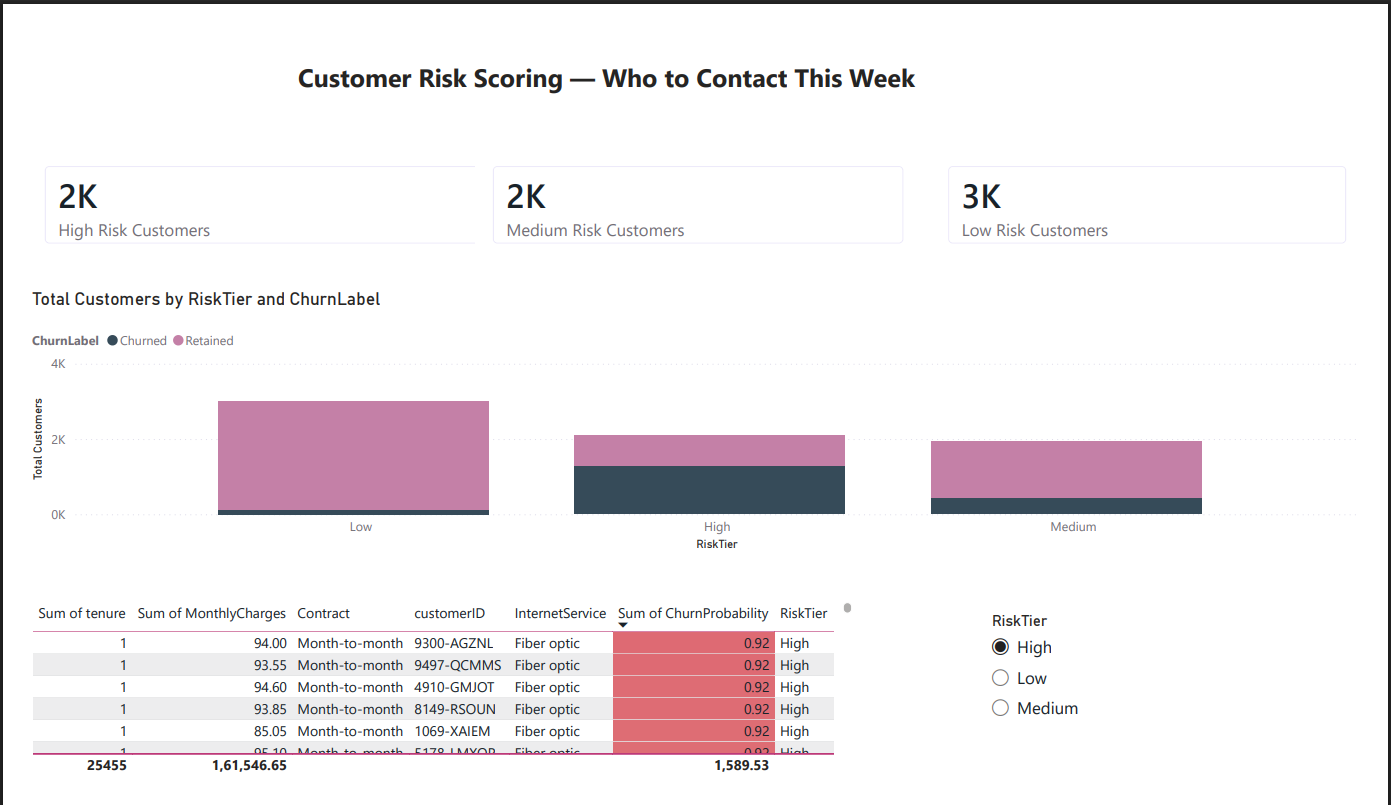

The dashboard page shown, as its layout file describes it:
{"tool":"powerbi","page":{"name":"Customer Risk Scoring — Who to Contact This Week","canvas":[1280,720],"ordinal":3},"visuals":[{"type":"cardVisual","fields":{"Data":["Customers.Low Risk Customers"]},"box":[865,115,415,107.5],"z":0},{"type":"cardVisual","fields":{"Data":["Customers.High Risk Customers"]},"box":[0,115,452.5,107.5],"z":1000},{"type":"cardVisual","fields":{"Data":["Customers.Medium Risk Customers"]},"box":[428.8,115,427.5,107.5],"z":2000},{"type":"columnChart","fields":{"Category":["Customers.RiskTier"],"Series":["Customers.ChurnLabel"],"Y":["Customers.Total Customers"]},"box":[0,248.8,1280,256.2],"z":3000},{"type":"tableEx","fields":{"Values":["Sum(Customers.tenure)","Sum(Customers.MonthlyCharges)","Customers.Contract","Customers.customerID","Customers.InternetService","Sum(Customers.ChurnProbability)","Customers.RiskTier"]},"box":[0,543.8,795,176.2],"z":4000},{"type":"slicer","fields":{"Values":["Customers.RiskTier"]},"box":[911.2,553.8,368.8,166.2],"z":5000},{"type":"textbox","box":[198.8,25,712.5,55],"z":7000}]}

Visuals, with their boxes in screenshot pixels (x1, y1, x2, y2), scaled from the page's 1280x720 canvas onto the 1391x805 screenshot:
cardVisual - Customers.Low Risk Customers: BBox(940, 129, 1390, 249)
cardVisual - Customers.High Risk Customers: BBox(0, 129, 492, 249)
cardVisual - Customers.Medium Risk Customers: BBox(466, 129, 931, 249)
columnChart - Customers.RiskTier x Customers.ChurnLabel: BBox(0, 278, 1390, 565)
tableEx - Sum(Customers.tenure) x Sum(Customers.MonthlyCharges): BBox(0, 608, 864, 804)
slicer - Customers.RiskTier: BBox(990, 619, 1390, 804)
textbox: BBox(216, 28, 990, 89)
